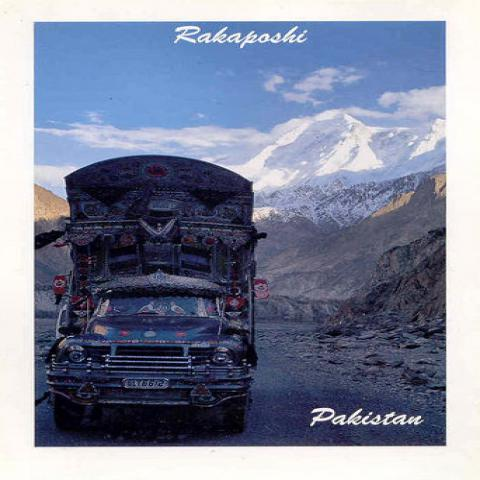truck: (43, 154, 270, 434)
